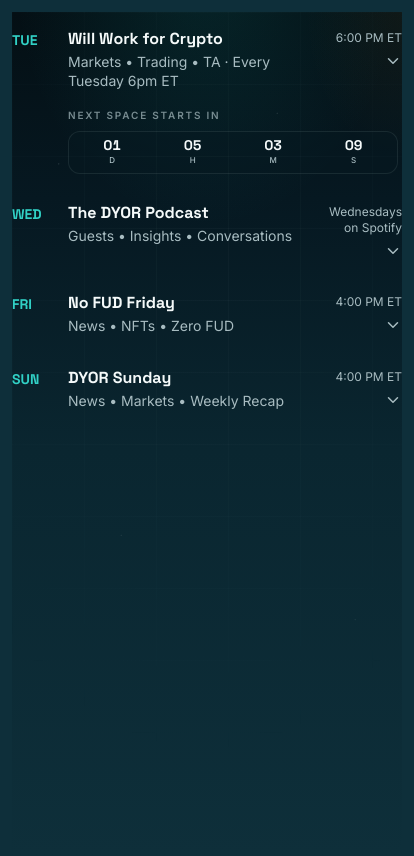
Scenario: Mobile homepage › schedule row expands with aria-expanded
Click the button "SUN DYOR Sunday News • Markets • Weekly Recap 4:00 PM ET".
click(120, 378)  # box [12,351,402,427]
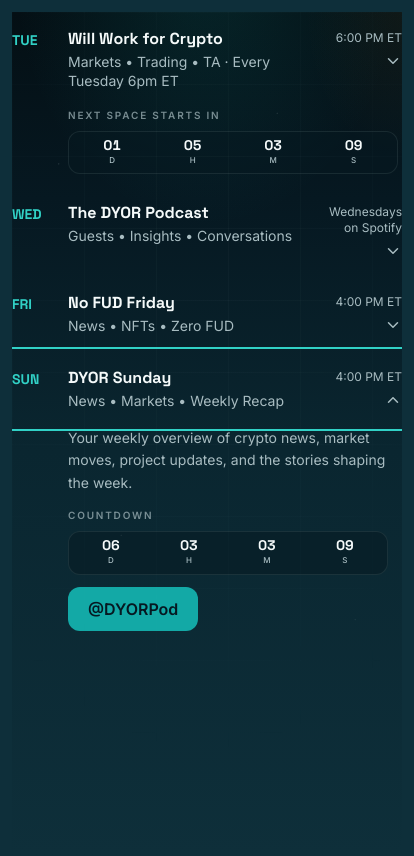
Check: the button "SUN DYOR Sunday News • Markets • Weekly Recap 4:00 PM ET" is expanded, box [12,351,402,427]
